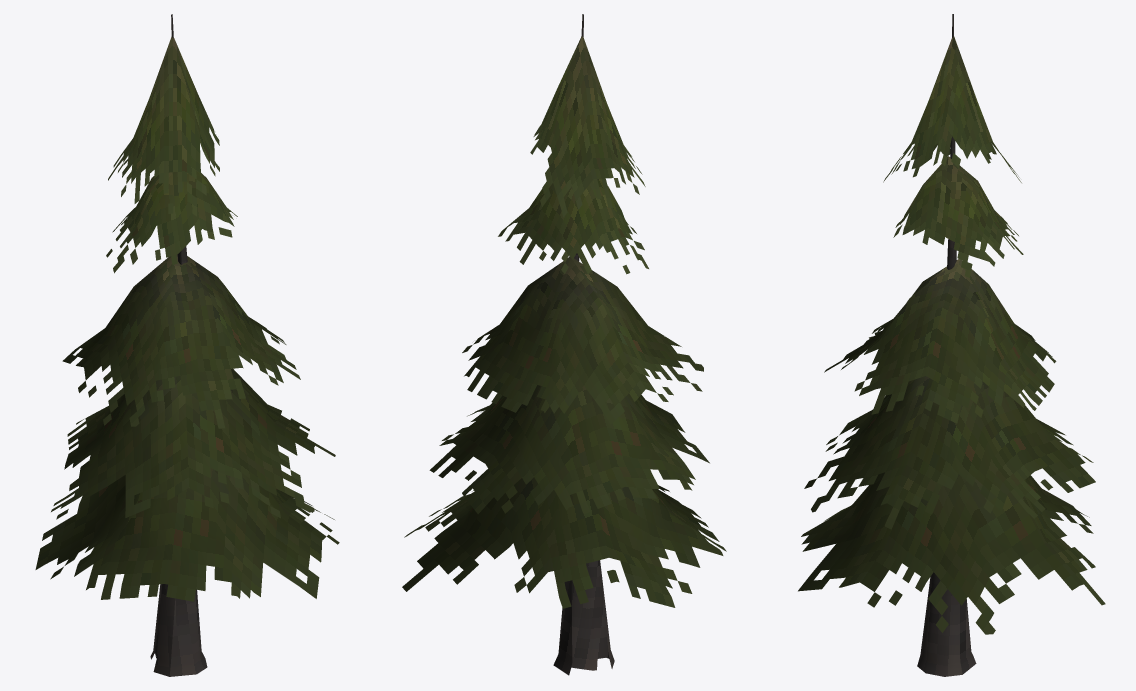
File: Fir.fbx
The picture shows the model from 3 angles, left to right: view 1: azimuth 30°, elevation 25°; view 2: azimuth 150°, elevation 25°; view 3: azimuth 270°, elevation 25°; orthographic projection.
Parts seen in each view (by area): view 1: Fir01; view 2: Fir01; view 3: Fir01.
Boxes of the visible parts, box(x1,y1,x2,y2) form: Fir01: box(35, 14, 339, 676); Fir01: box(402, 14, 726, 675); Fir01: box(798, 14, 1105, 676).
Bounding box in the file's own units: 25.81 × 54.08 × 26.17.
Materials: 1 (1 with a texture image).
